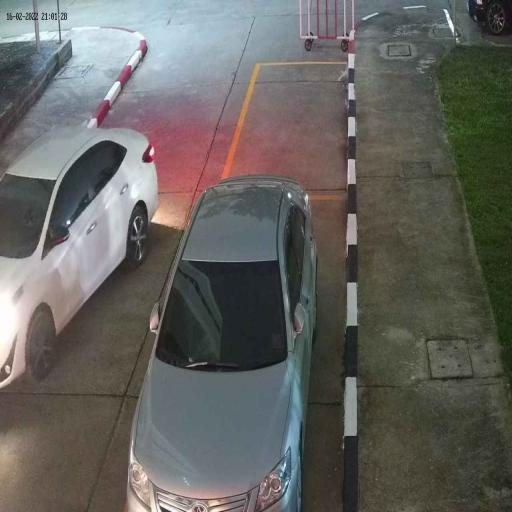car: (126, 175, 319, 511), (0, 126, 159, 390)
